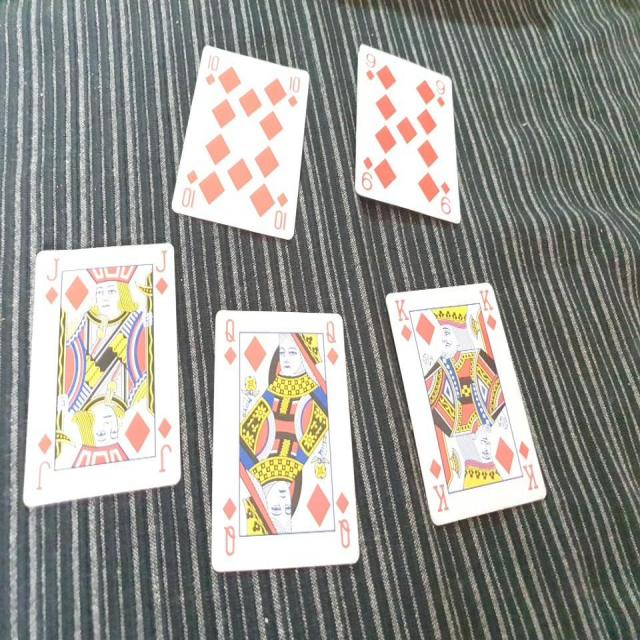10 Diamonds: (172, 44, 312, 242)
9 Diamonds: (352, 40, 460, 223)
J Diamonds: (22, 242, 184, 509)
K Diamonds: (383, 279, 548, 529)
Q Diamonds: (211, 308, 364, 572)
